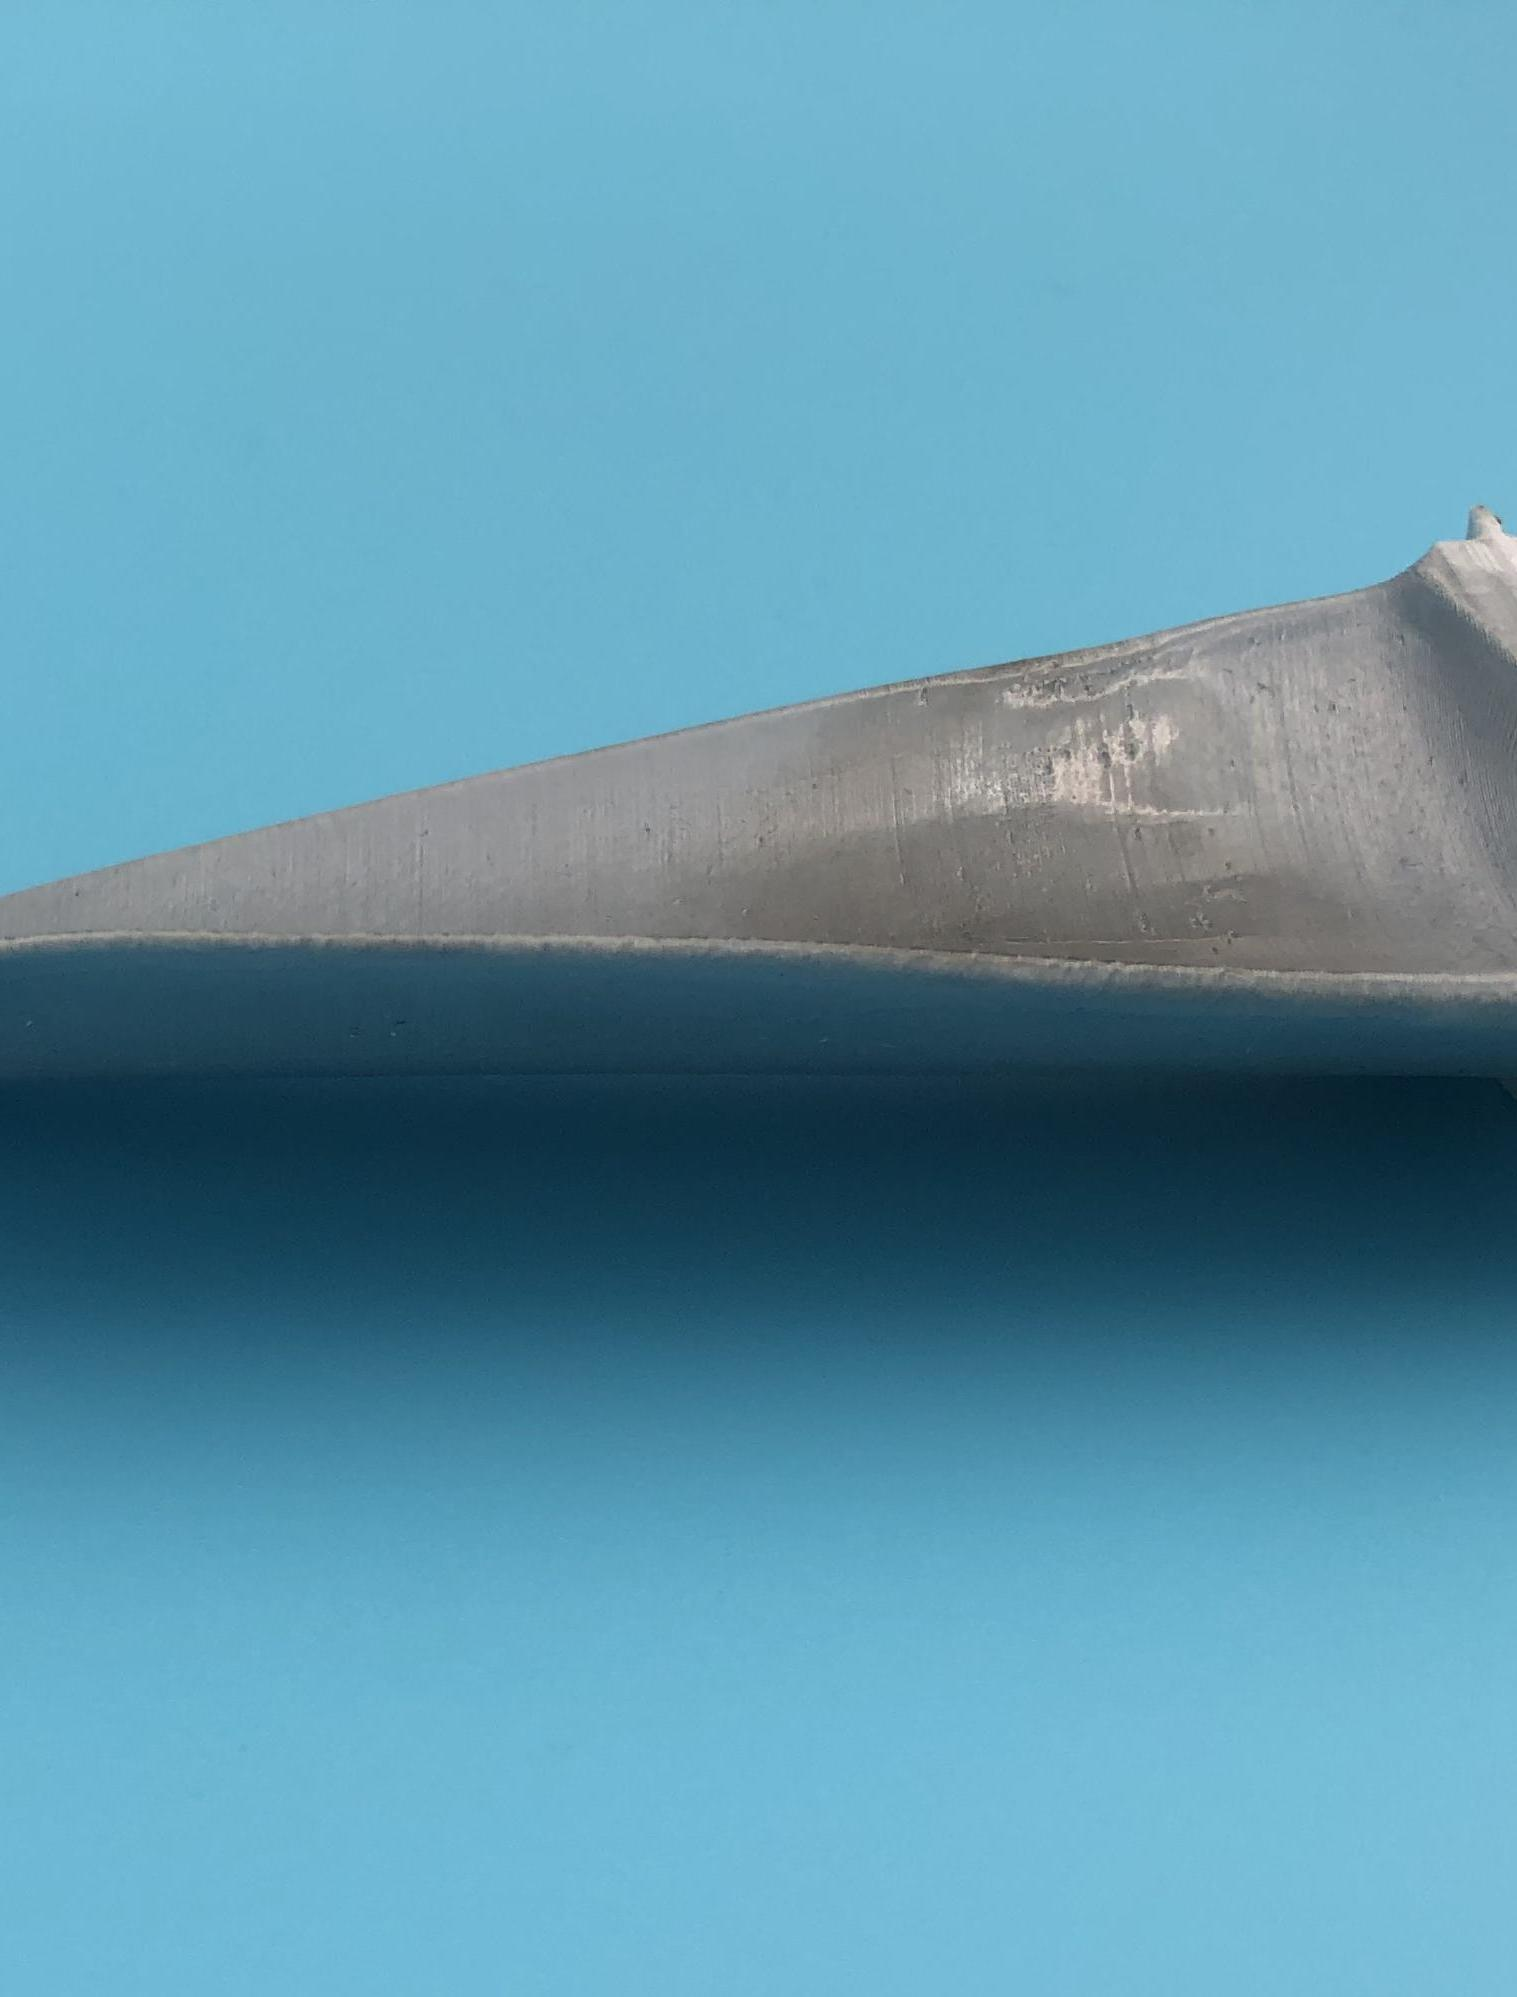ablation: (878, 826, 1291, 983)
